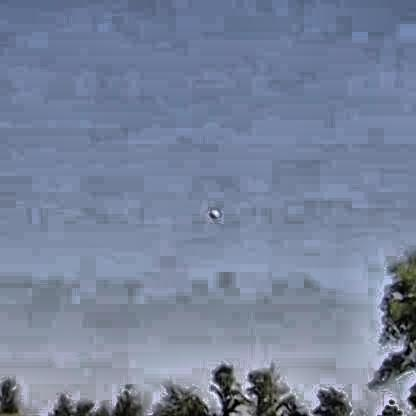golfball: (206, 207, 216, 218)
